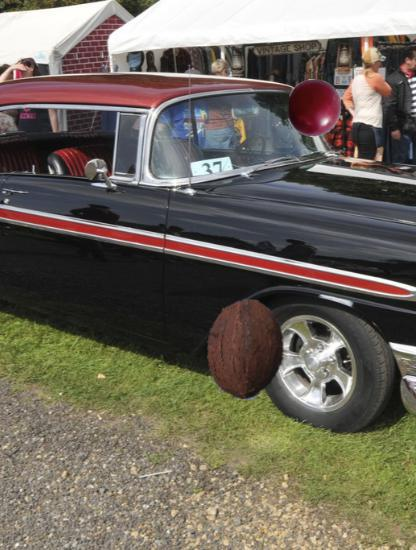Cherry: (286, 79, 345, 138)
Cocos: (195, 299, 296, 400)
